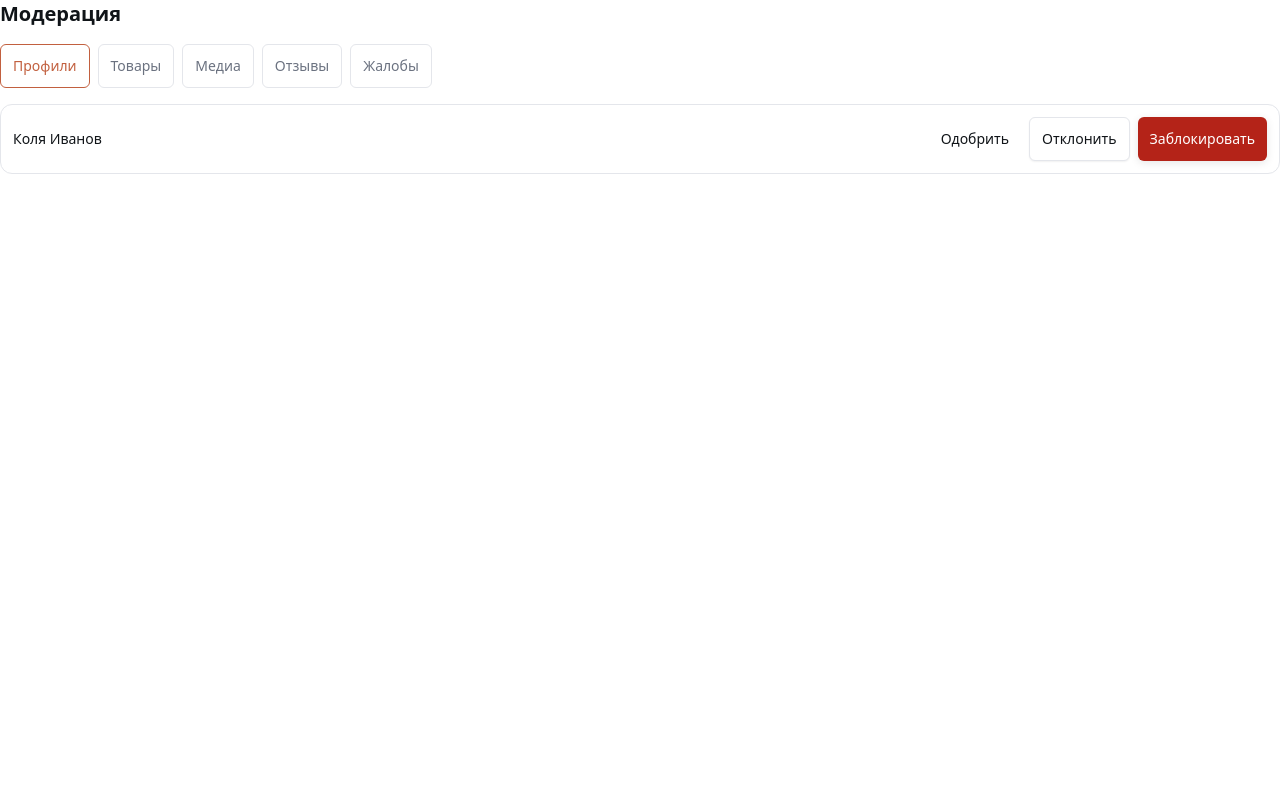
it: ModerationPage › отклонение профиля — диалог с причиной, отмена не отклоняет
Later steps or results of the test are not shown.
Step 1. Click the button "Отклонить" → (1079, 139), box [1029,117,1130,161]
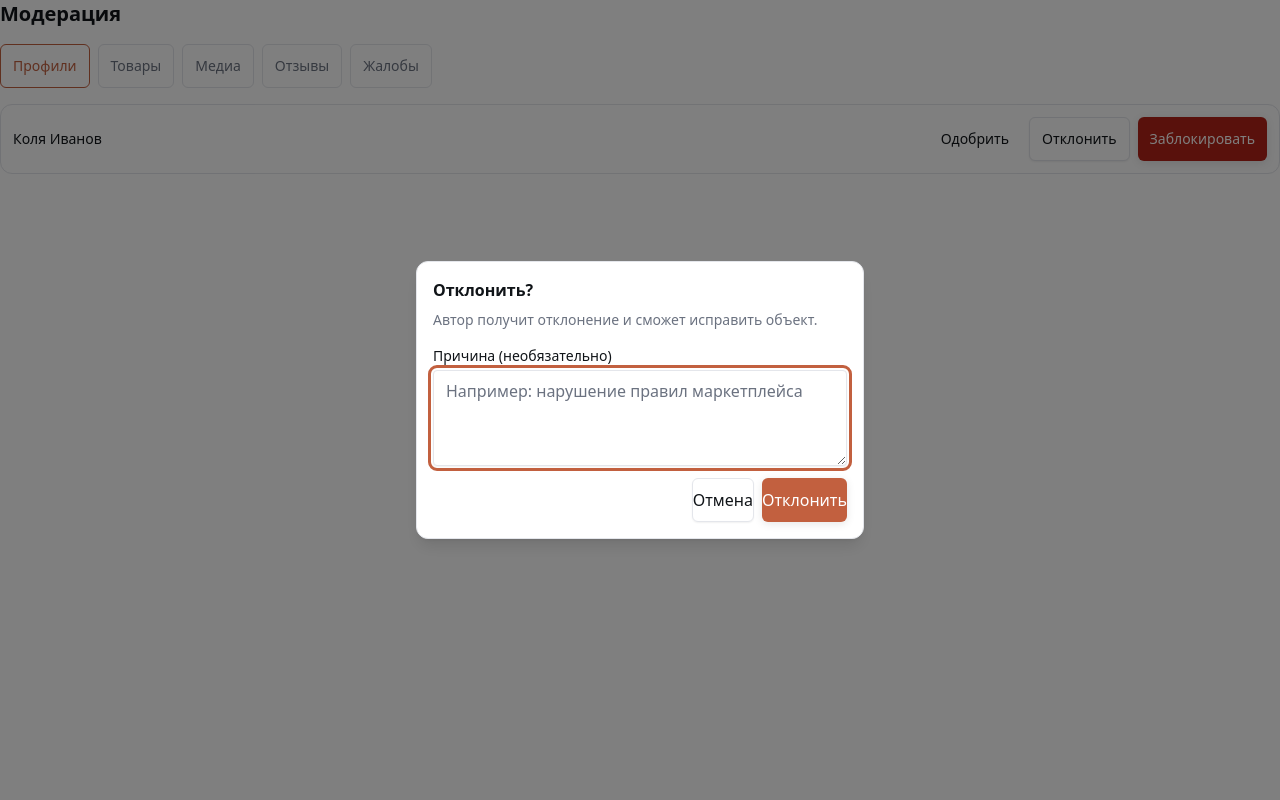
Step 2. Click the button "Отмена" → (723, 500), box [692,478,754,522]
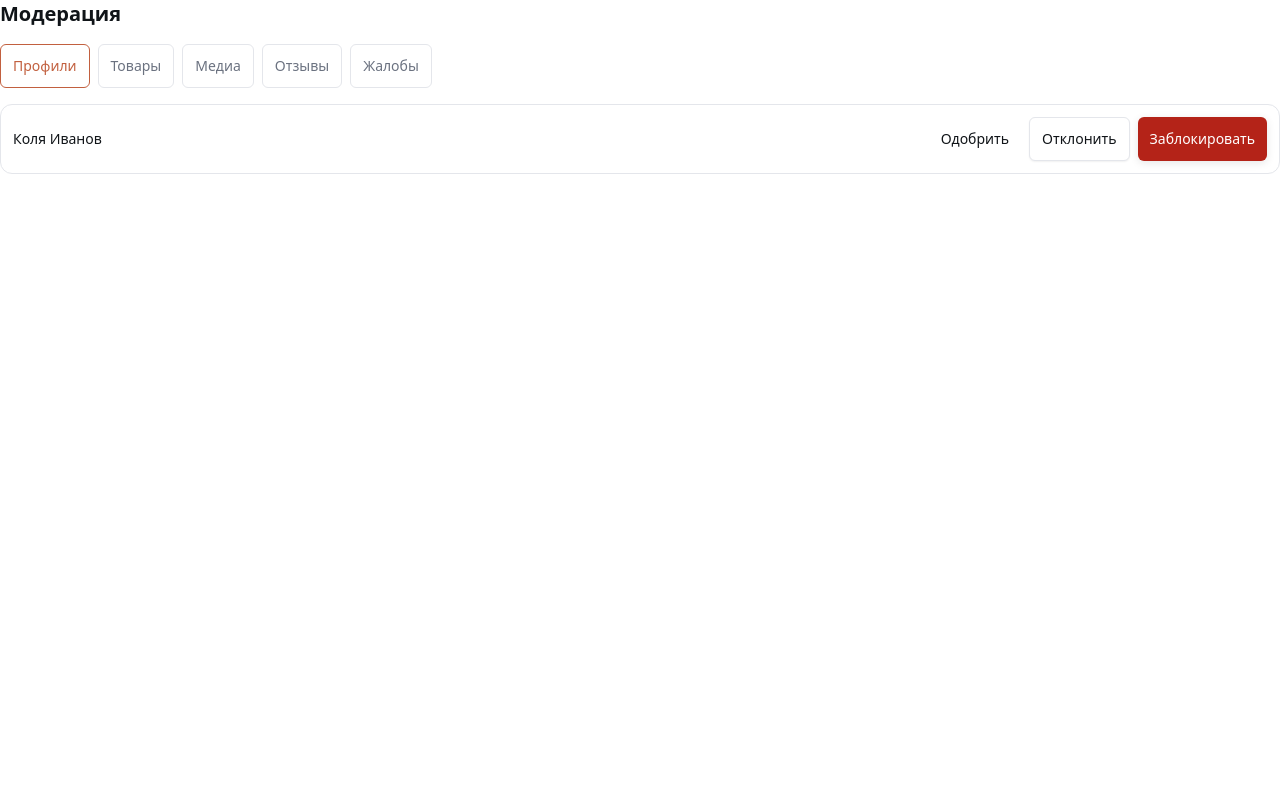
Expected: the dialog is gone
